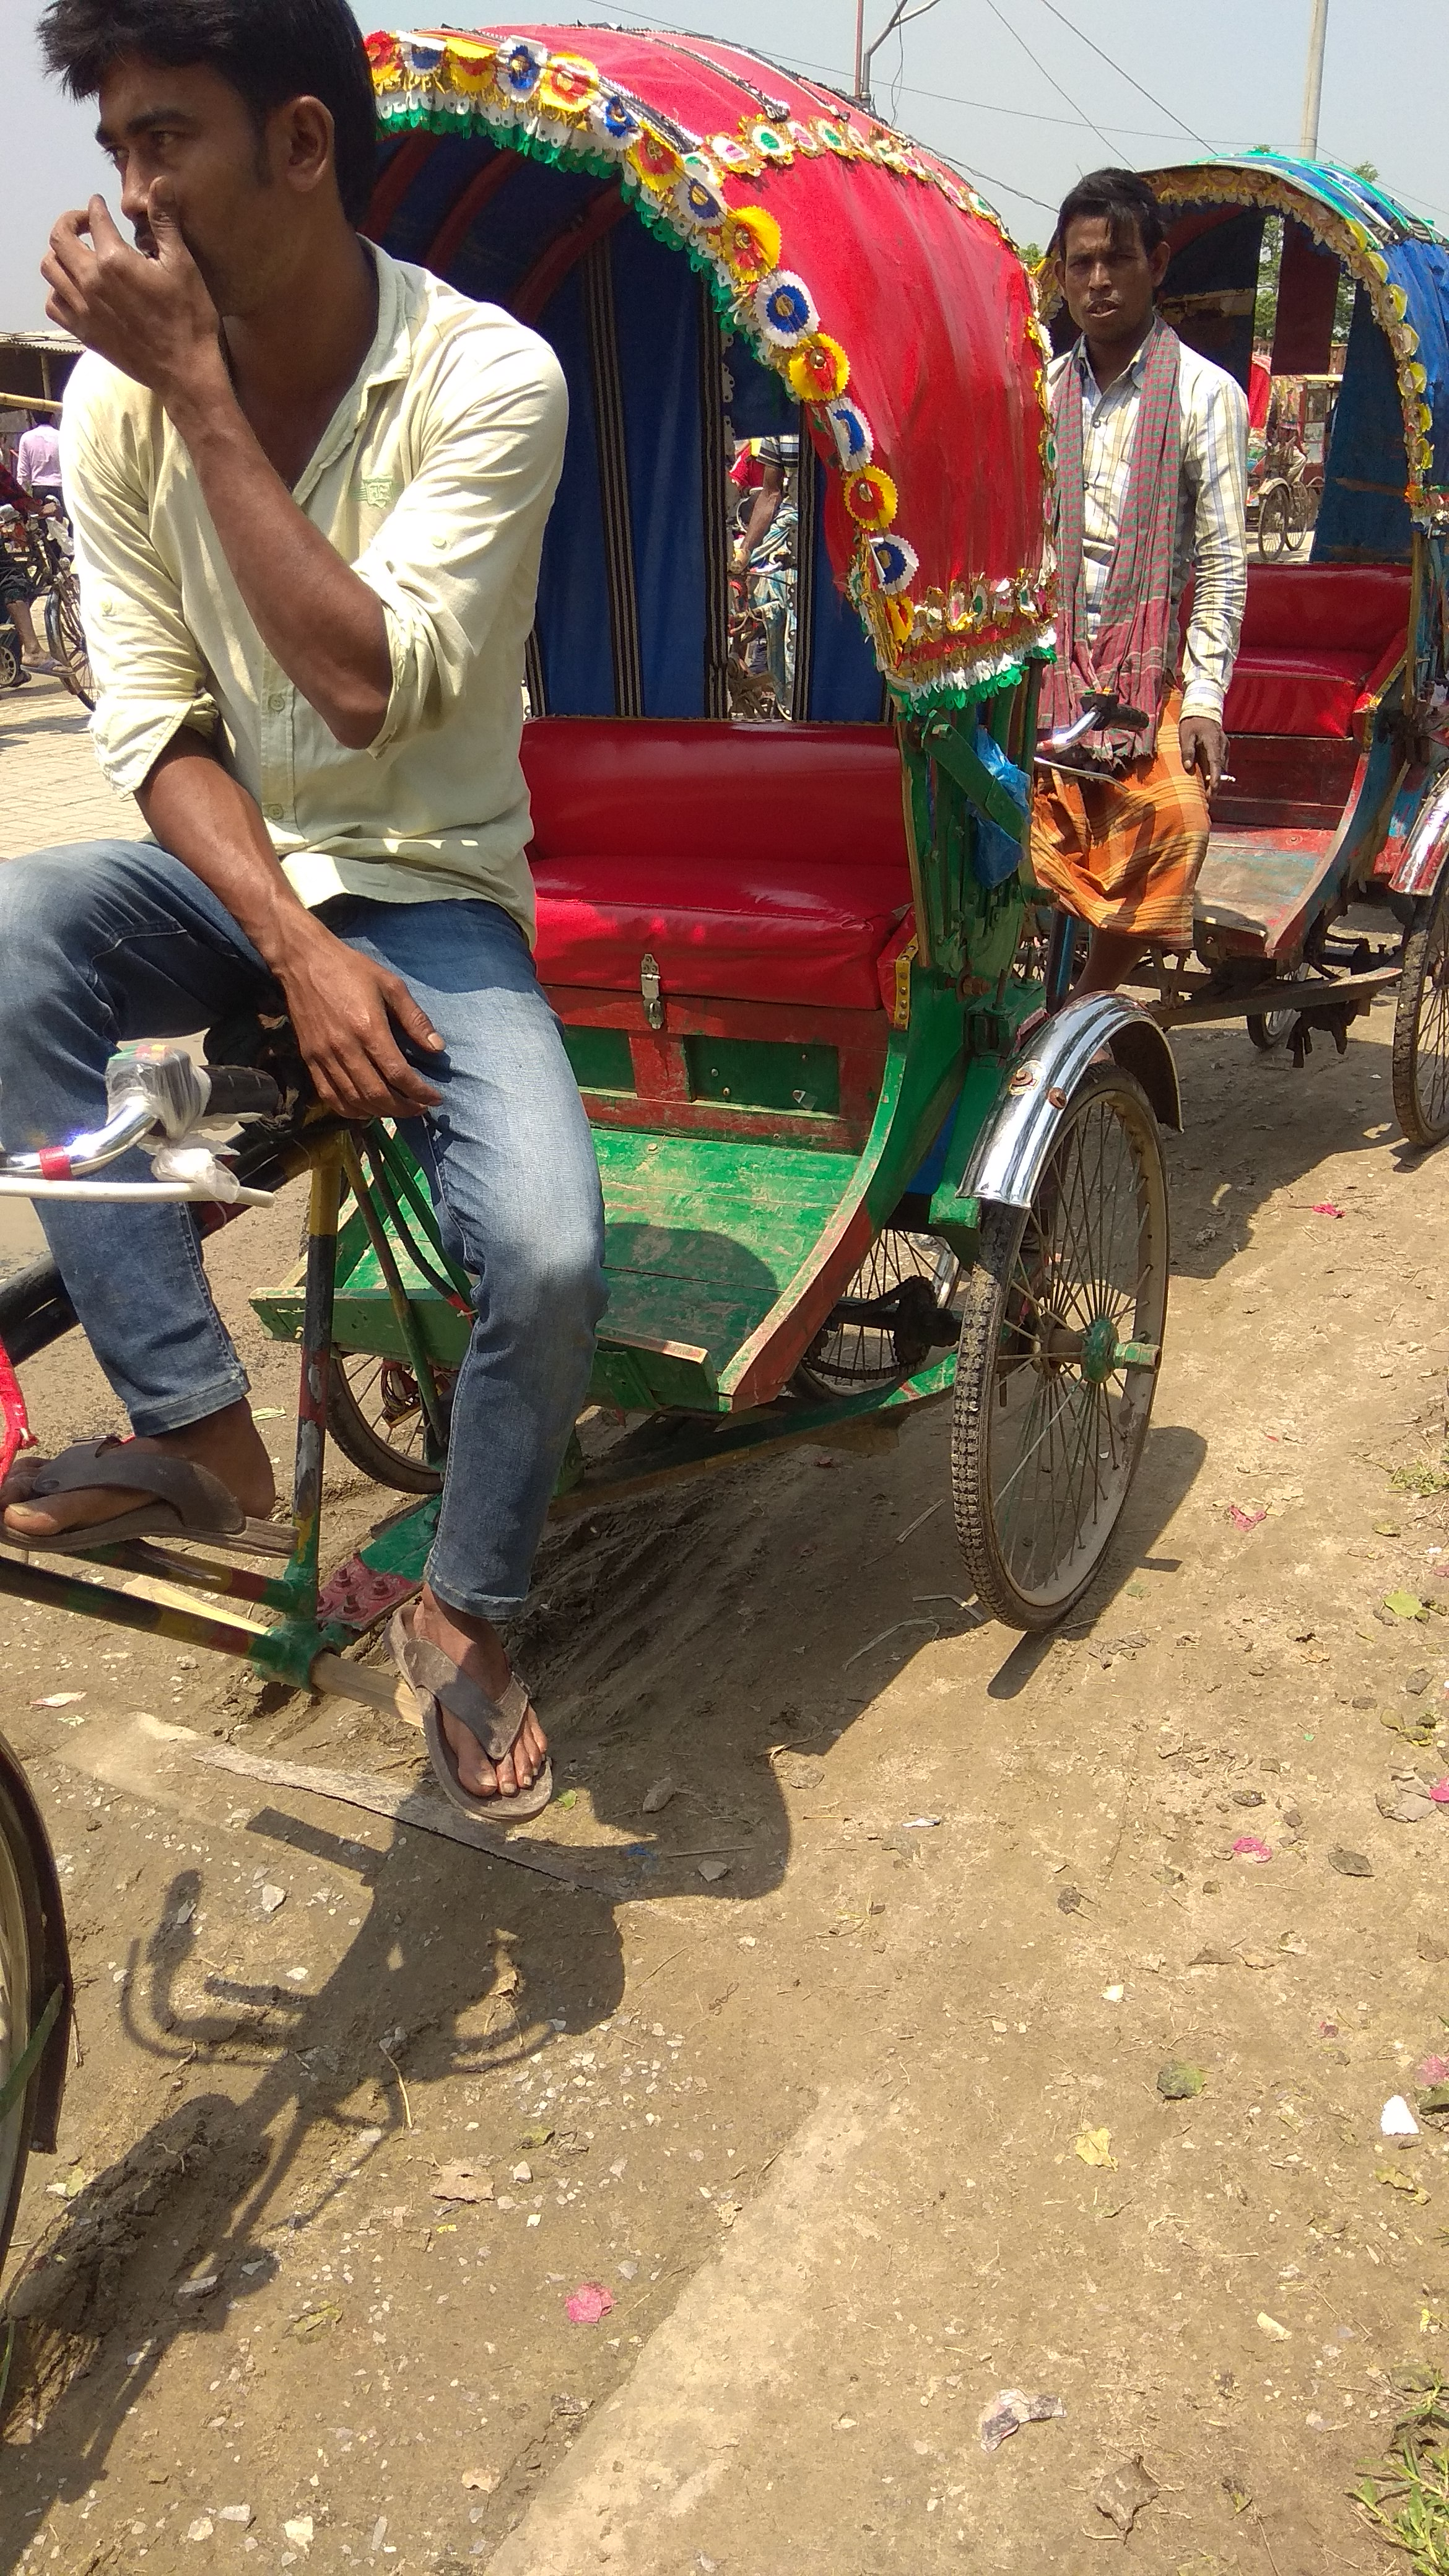Rickshaw: (9, 18, 1237, 1714), (1019, 108, 1444, 1177)
